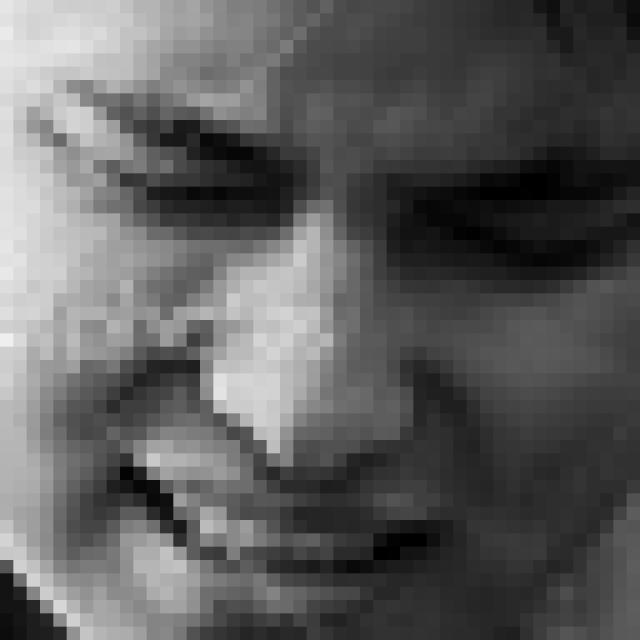sad: (30, 71, 639, 640)
